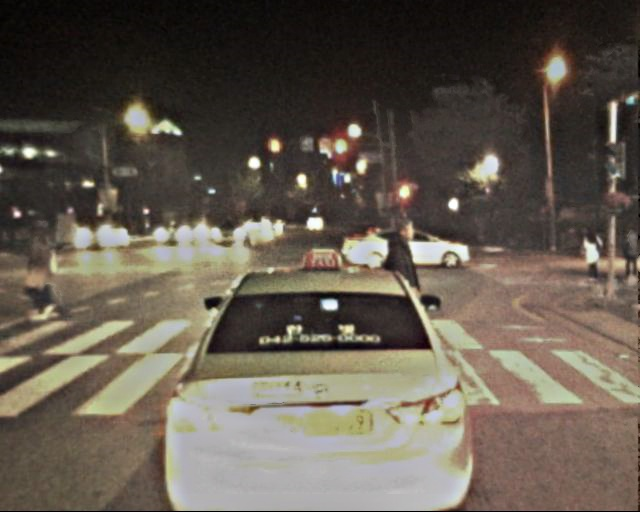person: (378, 217, 432, 349), (19, 217, 71, 321), (579, 227, 603, 286), (620, 228, 640, 282)
